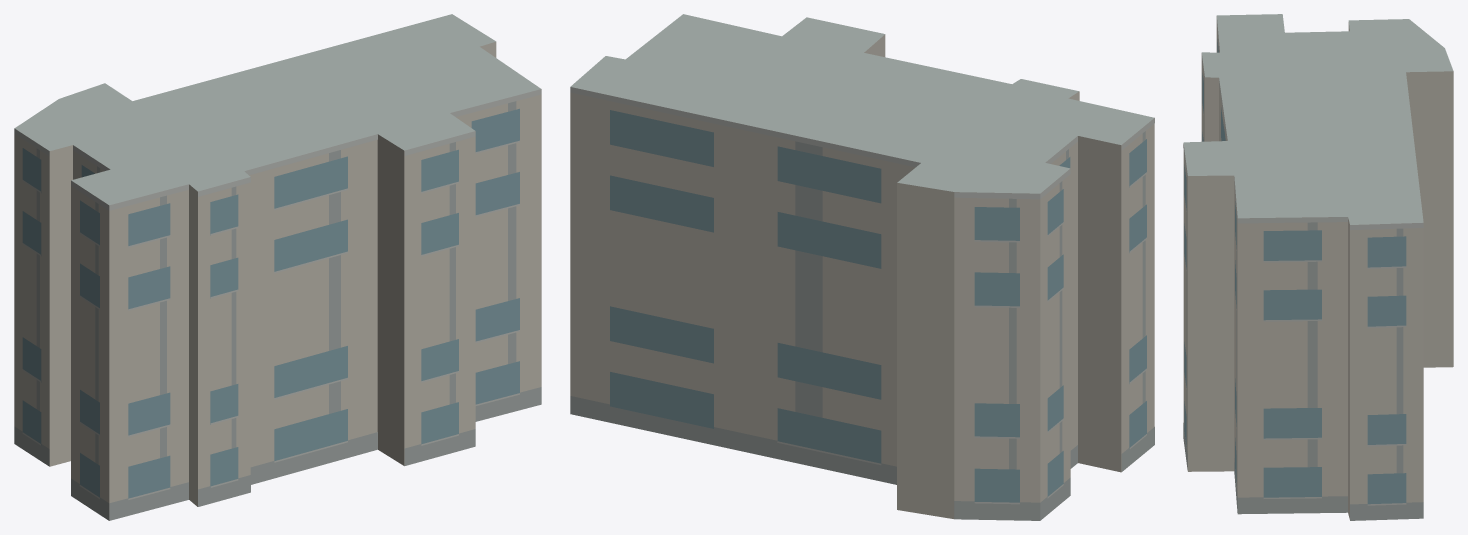
File: survey-upis-32822469.glb
3 views of the same model, side by side, from view 1: azimuth 30°, elevation 25°; view 2: azimuth 150°, elevation 25°; view 3: azimuth 270°, elevation 25° (orthographic). The views are drawn at different scales.
Visible parts, largest first — view 1: survey-upis-32822469.tmp; view 2: survey-upis-32822469.tmp; view 3: survey-upis-32822469.tmp.
Part boxes in pixels (box(x1,y1,x2,y2)): survey-upis-32822469.tmp: box(14, 14, 541, 520); survey-upis-32822469.tmp: box(570, 14, 1154, 520); survey-upis-32822469.tmp: box(1183, 14, 1453, 520).
Size of the model in its own units: 21.51 by 14.05 by 11.63.
